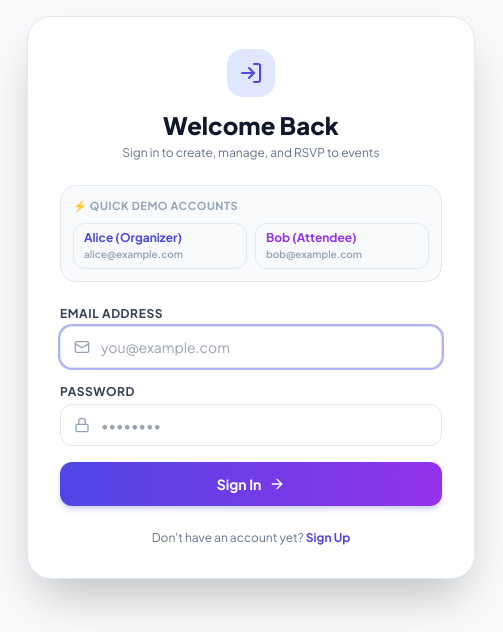
it: Auth Pages Auto-Focus Behavior › allows filling demo account on LoginPage
This screenshot has width=503, height=632.
What coordinates should you click on to do the following:
click the button "Alice (Organizer) alice@example.com"
I would click on:
 (160, 246)
Its box is [73,222,247,268].
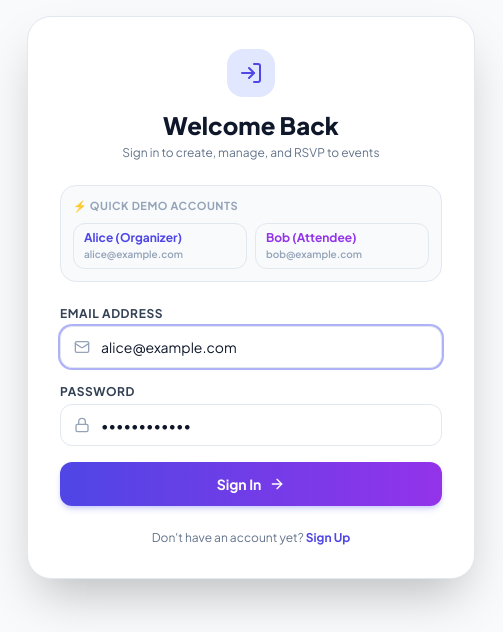
Expected: the field with placeholder "you@example.com" holds "alice@example.com", [60,326,442,368]
